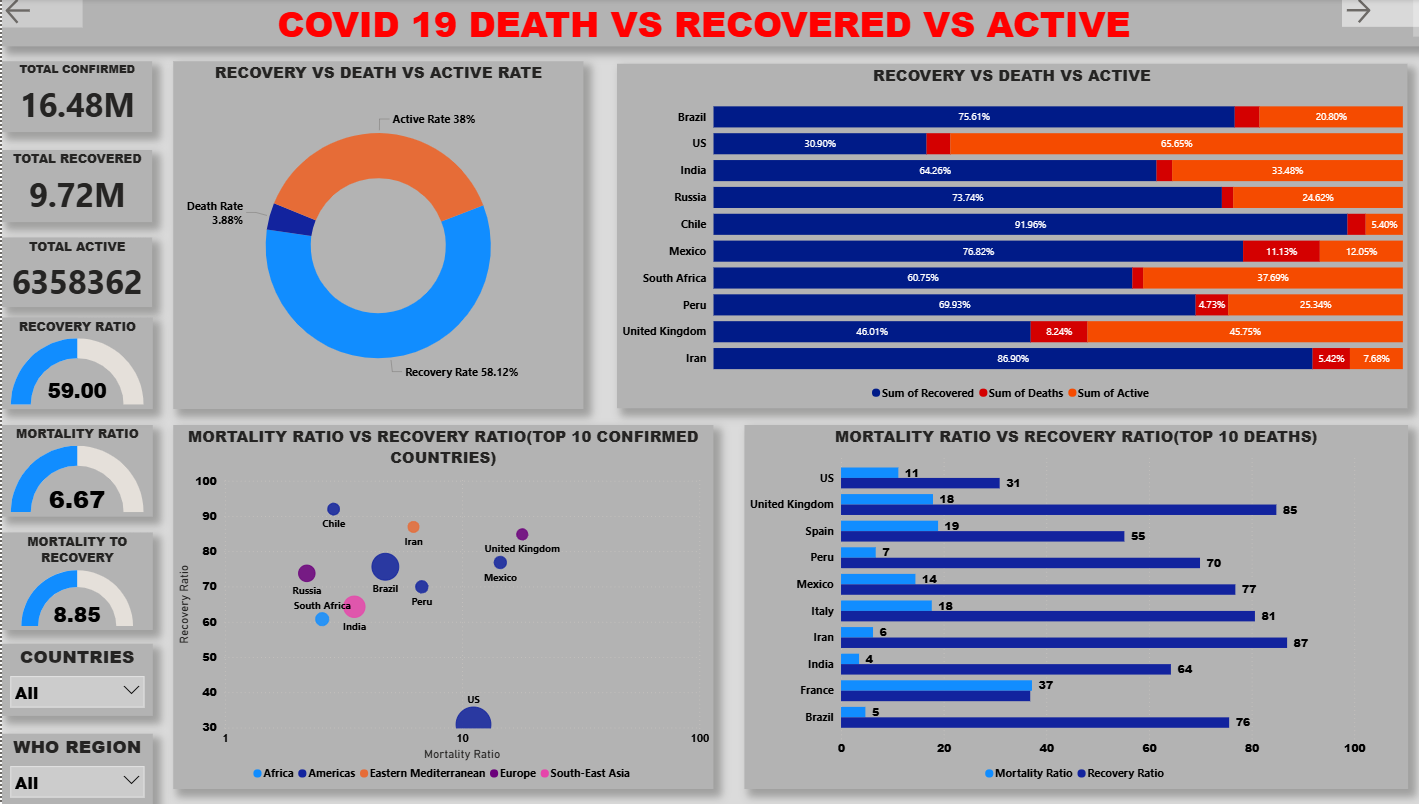

This screenshot's page, from the dashboard's own definition file:
{"tool":"powerbi","page":{"name":"RECOVERY","canvas":[1750,1000],"ordinal":3},"visuals":[{"type":"card","title":"TOTAL RECOVERED","fields":{"Values":["Sum(country_wise_latest (1).Recovered)"]},"box":[0,190.4,185.2,89.1],"z":0},{"type":"textbox","box":[0,0,1749.6,63.1],"z":1000},{"type":"card","title":"TOTAL CONFIRMED","fields":{"Values":["Sum(country_wise_latest (1).Confirmed)"]},"box":[0,82.1,185.2,87.4],"z":2000},{"type":"hundredPercentStackedBarChart","title":"RECOVERY VS DEATH VS ACTIVE","fields":{"Category":["country_wise_latest (1).Country/Region"],"Y":["Sum(country_wise_latest (1).Recovered)","Sum(country_wise_latest (1).Deaths)","Sum(country_wise_latest (1).Active)"]},"box":[757.4,84.8,972.5,424.1],"z":3000},{"type":"card","title":"TOTAL ACTIVE","fields":{"Values":["Sum(country_wise_latest (1).Active)"]},"box":[0,298.8,185.2,85.6],"z":4000},{"type":"actionButton","box":[1649,0,100.6,39.5],"z":5000},{"type":"actionButton","box":[0,0,99.6,40.2],"z":6000},{"type":"donutChart","title":"RECOVERY VS DEATH VS ACTIVE RATE","fields":{"Y":["measures_all.Recovery Rate","measures_all.Death Rate","measures_all.Active Rate %"]},"box":[211.1,80.9,505,428],"z":7000},{"type":"gauge","title":"MORTALITY RATIO","fields":{"Y":["measures_all.Mortality Ratio"]},"box":[0,528.6,185.4,112.4],"z":8000},{"type":"gauge","title":"RECOVERY RATIO","fields":{"Y":["measures_all.Recovery Ratio"]},"box":[0,396.5,185.4,112.4],"z":9000},{"type":"gauge","title":"MORTALITY TO RECOVERY","fields":{"Y":["measures_all.Recovery to Mortality Ratio"]},"box":[0,660.8,185.4,120.3],"z":10000},{"type":"slicer","title":"WHO REGION","fields":{"Values":["country_wise_latest (1).WHO Region"]},"box":[0,909.3,185.4,90.7],"z":11000},{"type":"slicer","title":"COUNTRIES","fields":{"Values":["country_wise_latest (1).Country/Region"]},"box":[0,798.9,185.4,88.8],"z":12000},{"type":"scatterChart","title":"MORTALITY RATIO VS RECOVERY RATIO(TOP 10 CONFIRMED COUNTRIES)","fields":{"X":["measures_all.Mortality Ratio"],"Size":["Sum(country_wise_latest (1).Confirmed)"],"Series":["country_wise_latest (1).WHO Region"],"Category":["country_wise_latest (1).Country/Region"],"Y":["measures_all.Recovery Ratio"]},"box":[211.1,528.6,664.7,447.8],"z":13000},{"type":"clusteredBarChart","title":"MORTALITY RATIO VS RECOVERY RATIO(TOP 10 DEATHS)","fields":{"Series":["MetricType.Metric Type"],"Category":["country_wise_latest (1).Country/Region"],"Y":["measures_all.Selected Metric Value"]},"box":[913.3,528.6,816.6,447.8],"z":14000}]}

Visuals, with their boxes in screenshot pixels (x1, y1, x2, y2), scaled from the page's 1750x1000 canvas onto the 1419x804 screenshot:
"TOTAL RECOVERED" card: rect(0, 153, 150, 225)
textbox: rect(0, 0, 1418, 51)
"TOTAL CONFIRMED" card: rect(0, 66, 150, 136)
"RECOVERY VS DEATH VS ACTIVE" hundredPercentStackedBarChart: rect(614, 68, 1403, 409)
"TOTAL ACTIVE" card: rect(0, 240, 150, 309)
actionButton: rect(1337, 0, 1418, 32)
actionButton: rect(0, 0, 81, 32)
"RECOVERY VS DEATH VS ACTIVE RATE" donutChart: rect(171, 65, 581, 409)
"MORTALITY RATIO" gauge: rect(0, 425, 150, 515)
"RECOVERY RATIO" gauge: rect(0, 319, 150, 409)
"MORTALITY TO RECOVERY" gauge: rect(0, 531, 150, 628)
"WHO REGION" slicer: rect(0, 731, 150, 803)
"COUNTRIES" slicer: rect(0, 642, 150, 714)
"MORTALITY RATIO VS RECOVERY RATIO(TOP 10 CONFIRMED COUNTRIES)" scatterChart: rect(171, 425, 710, 785)
"MORTALITY RATIO VS RECOVERY RATIO(TOP 10 DEATHS)" clusteredBarChart: rect(741, 425, 1403, 785)
